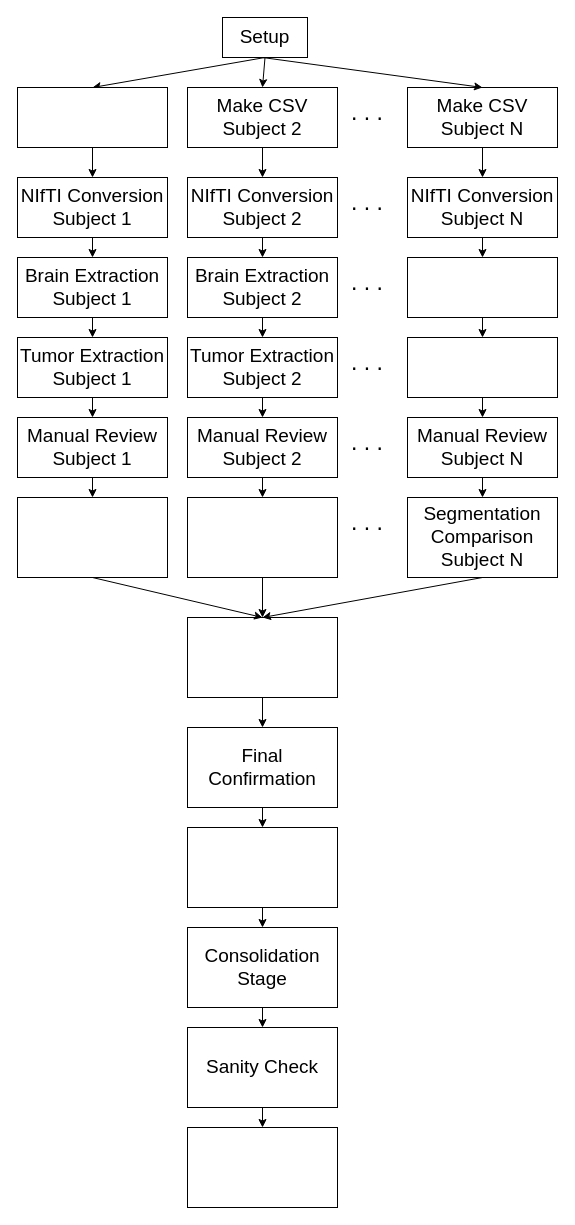
This 575x1225 diagram has some shape labels left out. The shapes that lost their labels are listed below. From the top down, each one's box as (x1, y1, x2, y2) in pixels, then its label:
(16, 86, 168, 148): Make CSV Subject 1
(406, 256, 558, 318): Brain Extraction Subject N
(406, 336, 558, 398): Tumor Extraction Subject N
(16, 496, 168, 578): Segmentation Comparison Subject 1
(186, 496, 338, 578): Segmentation Comparison Subject 2
(186, 616, 338, 698): Calculate Changed Voxels
(186, 826, 338, 908): Move Labeled Files
(186, 1126, 338, 1208): Metrics
